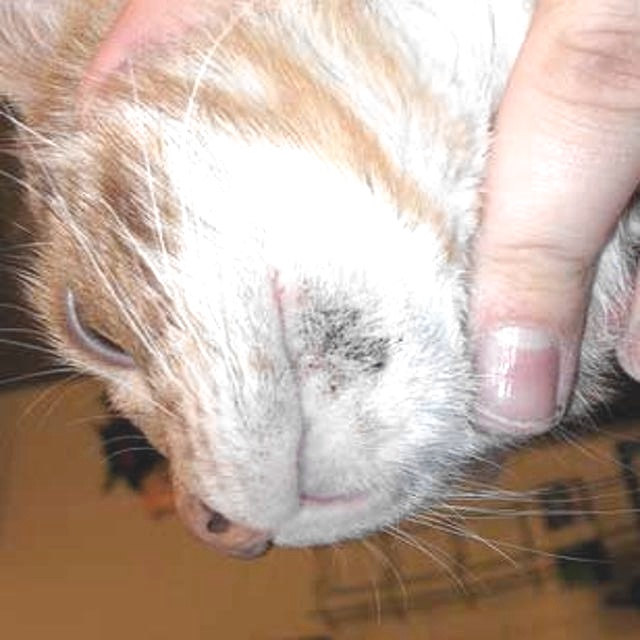acne: (297, 300, 395, 395)
